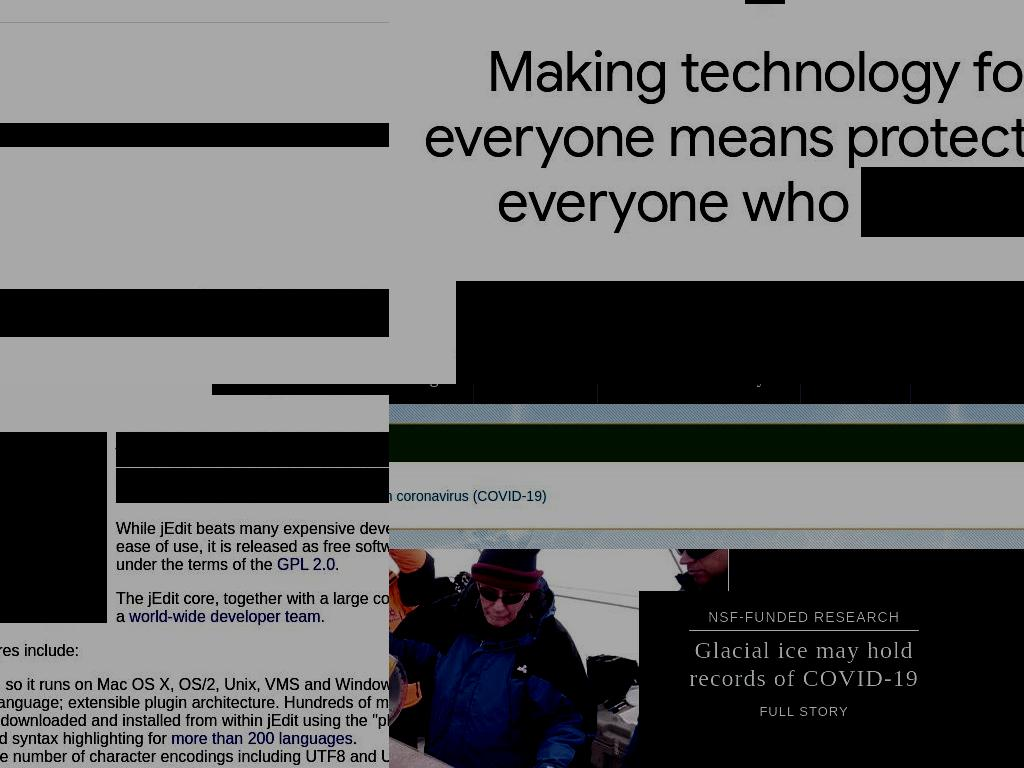button: (597, 384, 800, 404), (473, 384, 597, 404), (910, 384, 1024, 404), (800, 384, 910, 404), (389, 384, 473, 404)
heading: (423, 37, 1024, 237), (0, 55, 389, 91), (861, 167, 1024, 237)
image: (0, 432, 107, 623)
link: (129, 608, 322, 625), (171, 730, 354, 747), (389, 488, 547, 504), (182, 486, 262, 503), (116, 468, 185, 485), (276, 556, 335, 573)
text: (456, 281, 1024, 384), (389, 424, 1024, 462), (0, 289, 389, 337), (116, 520, 389, 573), (116, 432, 389, 467), (116, 468, 389, 503), (116, 590, 389, 625), (0, 123, 389, 147), (0, 642, 389, 660), (0, 676, 389, 694), (0, 694, 389, 712), (0, 712, 389, 730), (0, 748, 389, 766), (0, 369, 389, 384), (116, 590, 389, 607), (0, 730, 171, 747), (766, 371, 859, 384), (261, 486, 306, 503), (335, 556, 341, 573), (320, 608, 325, 625), (352, 730, 357, 747)
